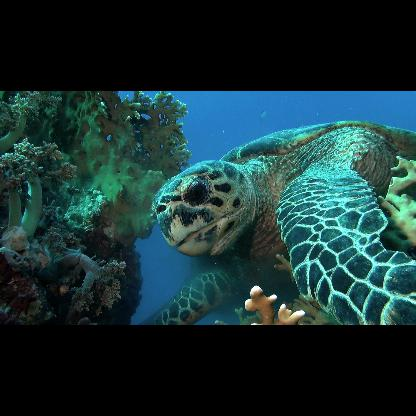turtle: (151, 118, 416, 324)
